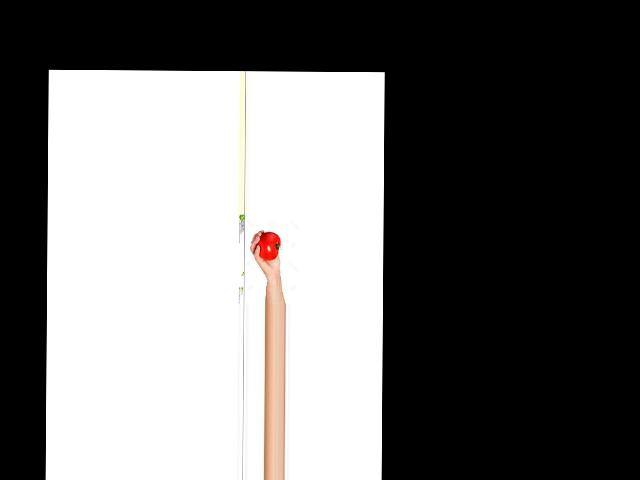tomato: (256, 232, 280, 261)
